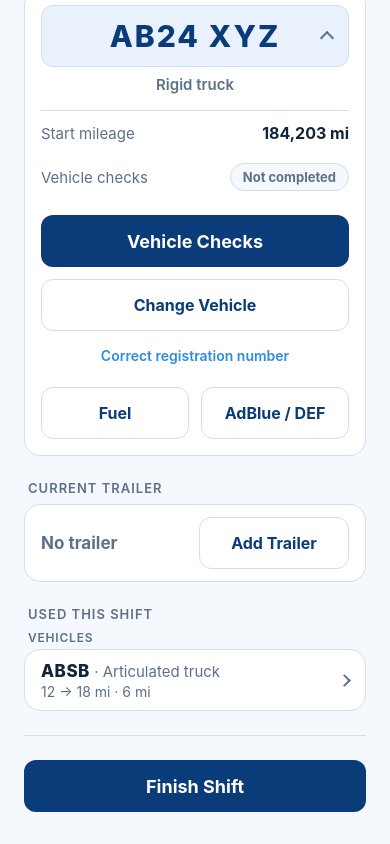
Scenario: a card folded by another section opens again with one press of its row
(page scrolled)
Click the button "ABSB · Articulated truck 12 → 18 mi · 6 mi" at (195, 680), box [25,650,365,710]
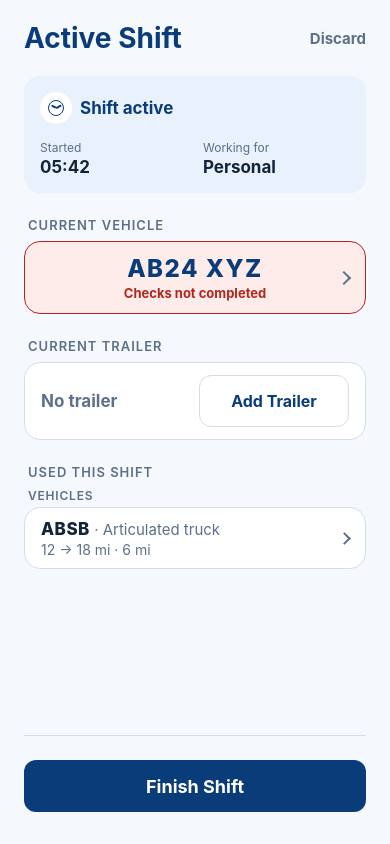
Click the button with test id "current-vehicle-toggle" at (195, 278), box [25,242,365,313]
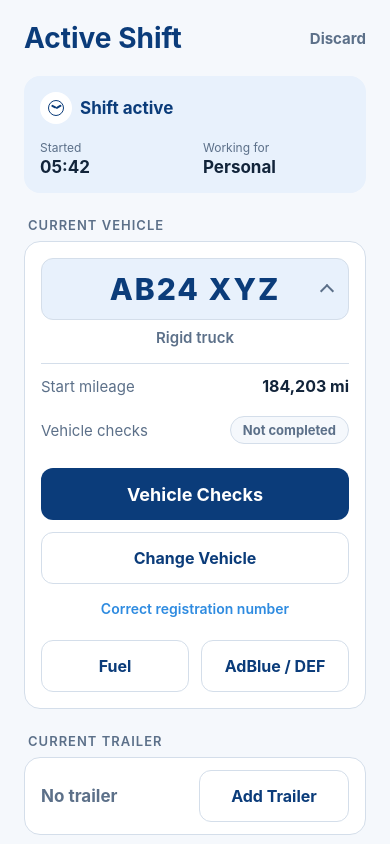
expect the text "Rigid truck" is shown: met, box [156,328,234,347]
expect the text "184,203 mi" is shown: met, box [262,376,349,396]
expect the button with test id "vehicle-checks" is shown: met, box [41,468,349,520]
